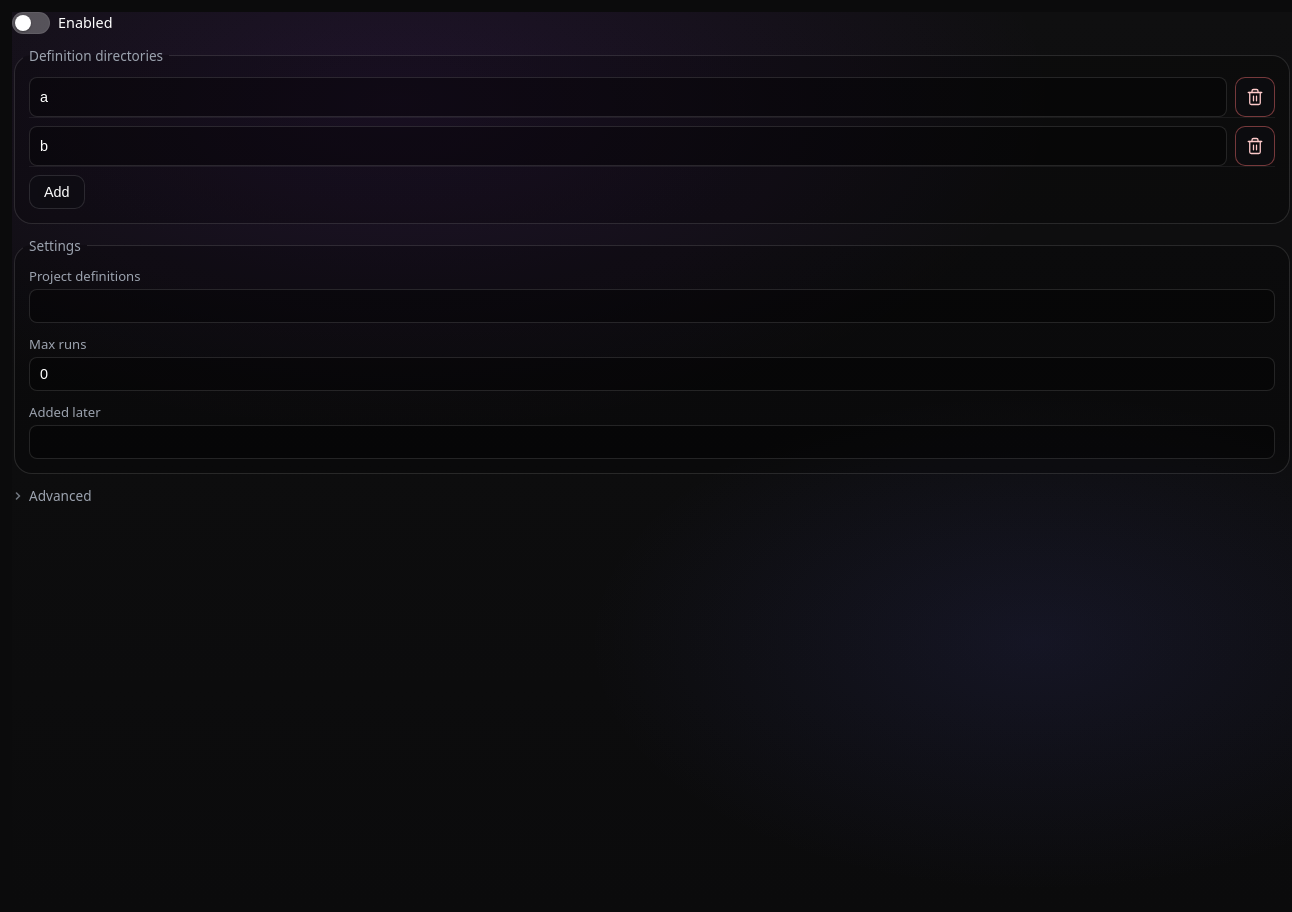
Test: a collapsible group starts folded and opens from its legend
The image size is (1292, 912).
Expected: the field labelled "Timeout" is not shown
Click the button with test id "settings-group-more-toggle".
click(51, 496)  # box [11,486,92,505]
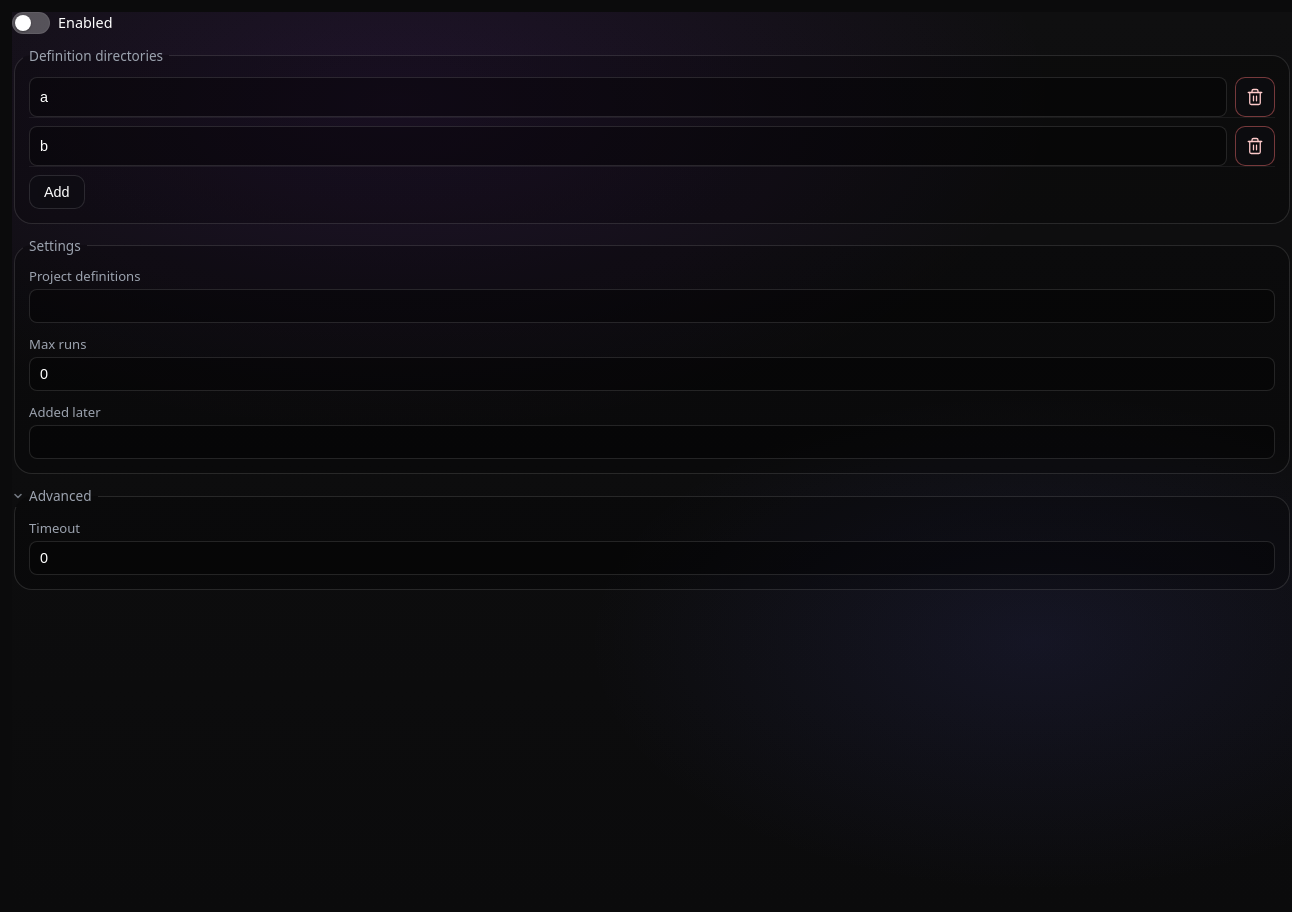
Result: the number field named "Timeout" is shown at [29,540,1275,574]
